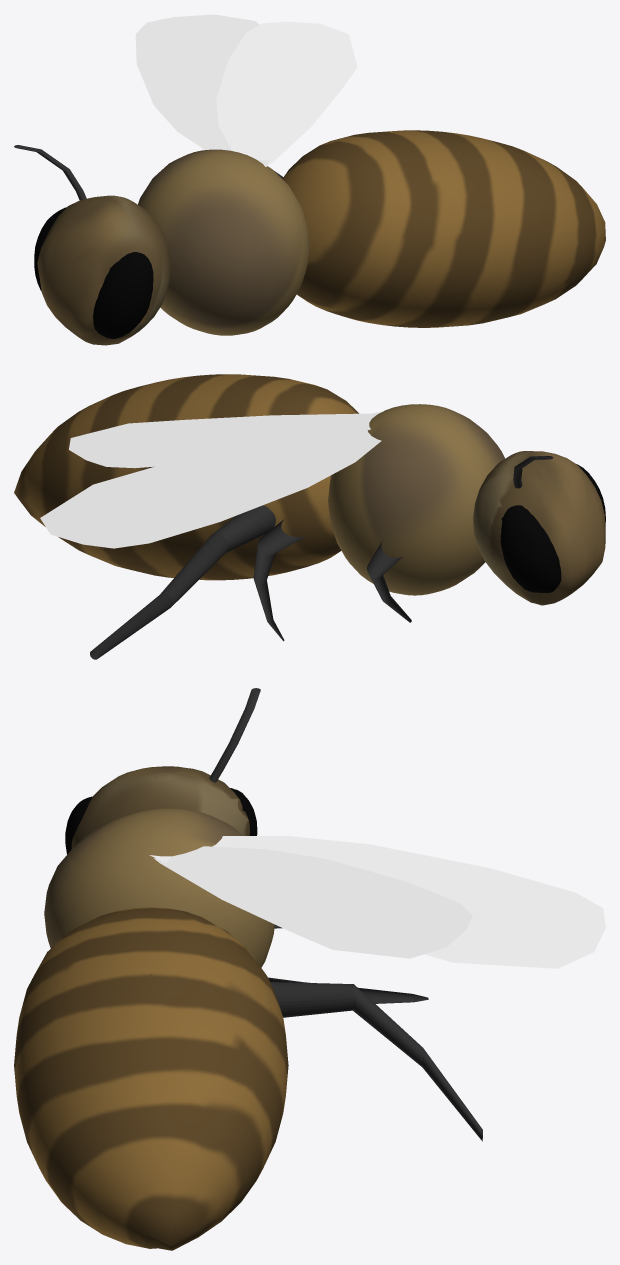
The model's file is pszczoła2.glb.
3 renders of one model, top to bottom at view 1: azimuth 30°, elevation 25°; view 2: azimuth 150°, elevation 25°; view 3: azimuth 270°, elevation 25°, orthographic. The views are drawn at different scales.
Parts seen in each view (by area): view 1: Sphere.002, Sphere.001, Plane.001, Sphere, Plane, Sphere.004, Circle.002, Sphere.003; view 2: Sphere.002, Sphere.001, Plane, Sphere, Plane.001, Circle.006, Sphere.003, Circle.005, Circle.004; view 3: Sphere.002, Plane.001, Plane, Sphere.001, Sphere, Circle.006, Circle.002, Circle.005.
Boxes of the visible parts, x1=… form: Sphere.002: x1=282, y1=130, x2=605, y2=327; Sphere.001: x1=138, y1=149, x2=309, y2=335; Plane.001: x1=216, y1=21, x2=357, y2=166; Sphere: x1=37, y1=195, x2=170, y2=345; Plane: x1=135, y1=14, x2=270, y2=166; Sphere.004: x1=93, y1=252, x2=153, y2=338; Circle.002: x1=14, y1=145, x2=86, y2=200; Sphere.003: x1=34, y1=207, x2=66, y2=291; Sphere.002: x1=14, y1=374, x2=358, y2=580; Sphere.001: x1=328, y1=404, x2=504, y2=595; Plane: x1=40, y1=411, x2=382, y2=548; Sphere: x1=473, y1=451, x2=605, y2=605; Plane.001: x1=69, y1=413, x2=371, y2=468; Circle.006: x1=90, y1=505, x2=275, y2=659; Sphere.003: x1=500, y1=505, x2=561, y2=592; Circle.005: x1=253, y1=519, x2=307, y2=641; Circle.004: x1=367, y1=541, x2=411, y2=622; Sphere.002: x1=14, y1=907, x2=288, y2=1250; Plane.001: x1=154, y1=846, x2=472, y2=958; Plane: x1=149, y1=836, x2=605, y2=968; Sphere.001: x1=44, y1=808, x2=274, y2=967; Sphere: x1=71, y1=766, x2=249, y2=848; Circle.006: x1=270, y1=982, x2=482, y2=1141; Circle.002: x1=209, y1=688, x2=260, y2=782; Circle.005: x1=268, y1=977, x2=428, y2=1003.
Size of the model in its own units: 5.83 by 2.35 by 4.5.
6 materials, 3 textured.
